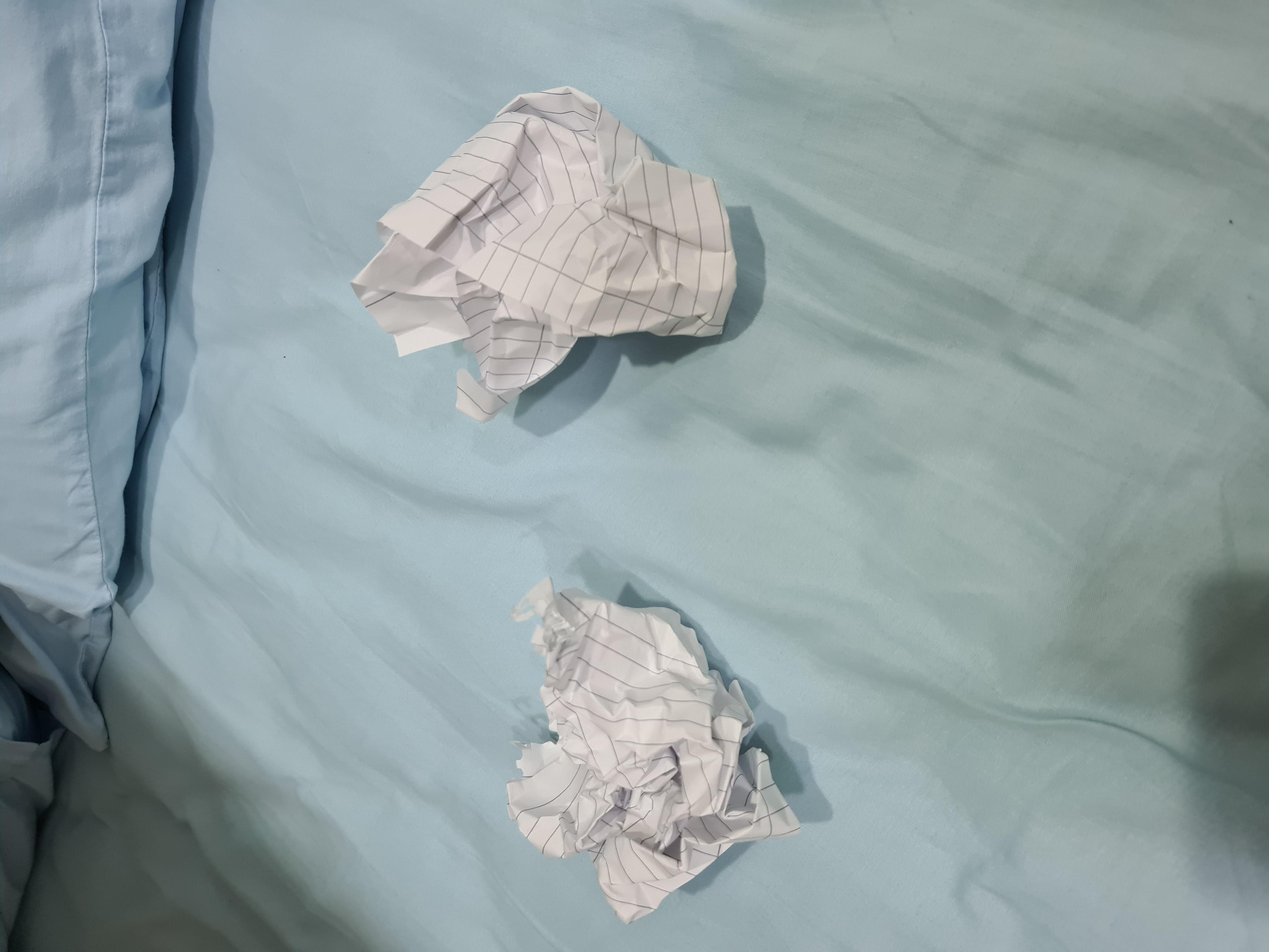paper: (714, 272, 1172, 560), (39, 378, 514, 617)
